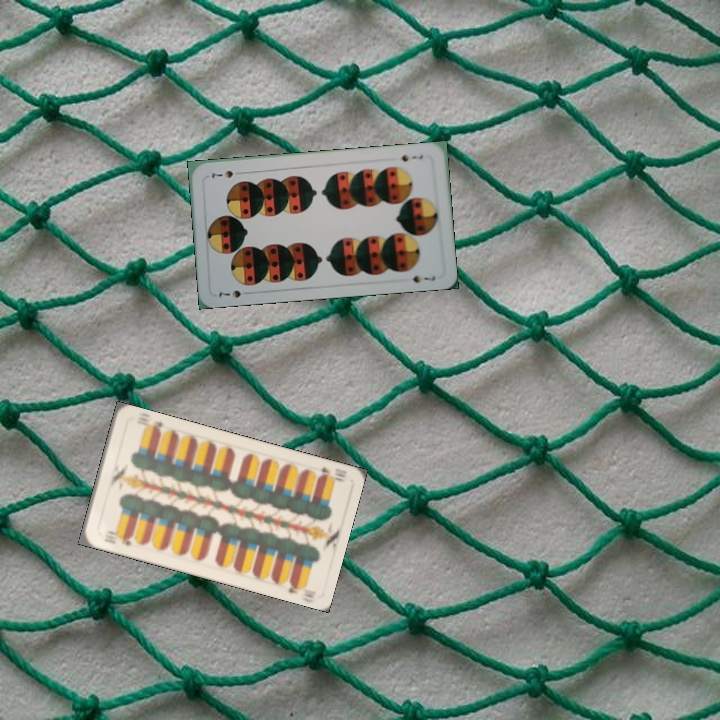E10: (314, 463, 349, 484), (100, 530, 135, 548)
S7: (215, 286, 253, 300), (397, 151, 426, 164)
